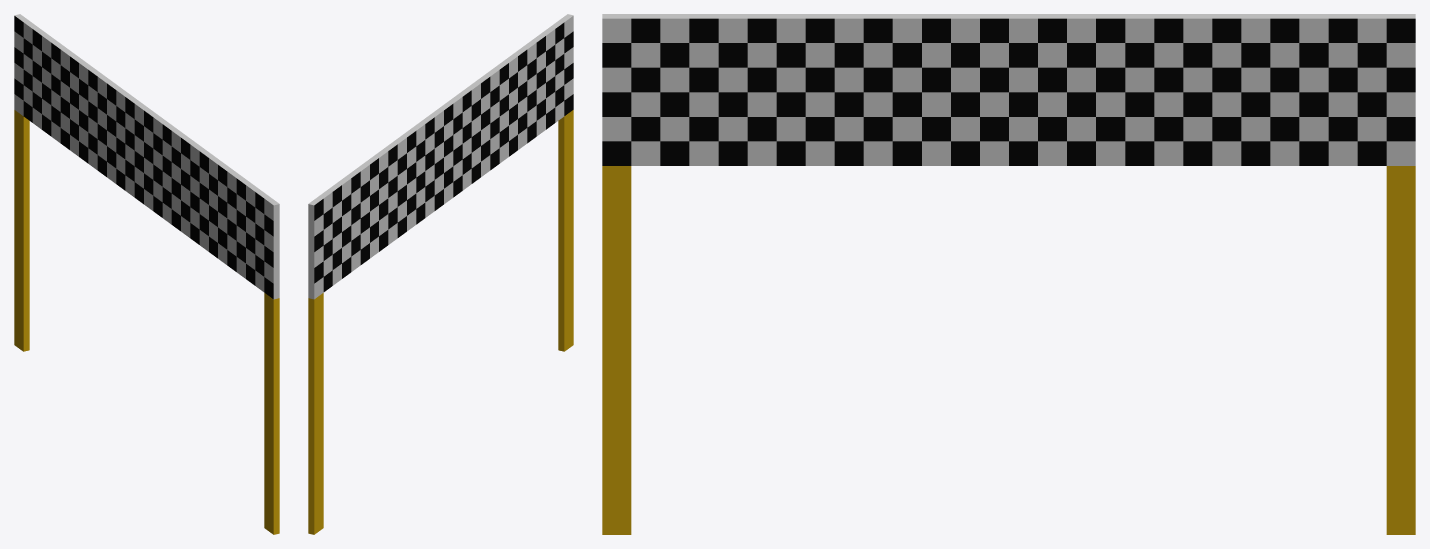
The model's file is meta.fbx.
The picture shows the model from 3 angles, left to right: view 1: azimuth 30°, elevation 25°; view 2: azimuth 150°, elevation 25°; view 3: azimuth 270°, elevation 25°; orthographic projection. The views are drawn at different scales.
Parts seen in each view (by area): view 1: Cube; view 2: Cube; view 3: Cube.
Boxes of the visible parts, x1,y1,x2,y2 form: Cube: (14, 14, 279, 534); Cube: (308, 14, 573, 534); Cube: (602, 14, 1415, 534).
Size of the model in its own units: 10 by 525 by 750.
